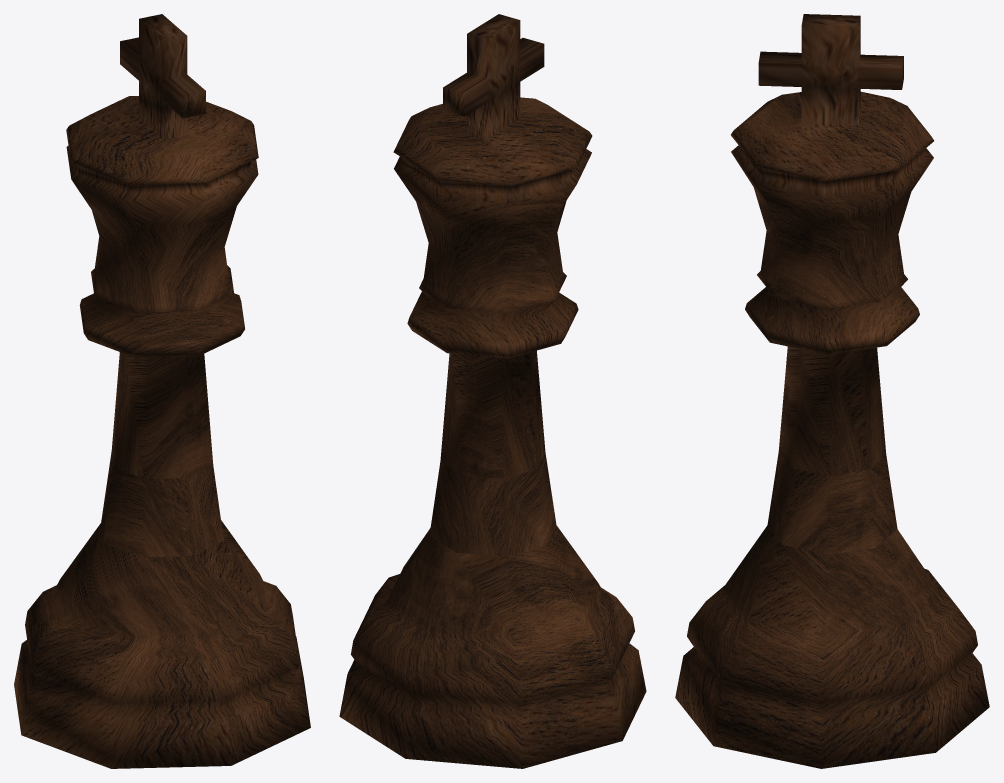
3 renders of one model, left to right at view 1: azimuth 30°, elevation 25°; view 2: azimuth 150°, elevation 25°; view 3: azimuth 270°, elevation 25°, orthographic.
Visible parts, largest first — view 1: BlackKing; view 2: BlackKing; view 3: BlackKing.
Part boxes in pixels (<box>): BlackKing: <box>14,14,310,768</box>; BlackKing: <box>339,14,646,768</box>; BlackKing: <box>675,14,989,768</box>.
Size of the model in its own units: 0.0296 by 0.0709 by 0.0296.
Materials: 1 (1 with a texture image).
